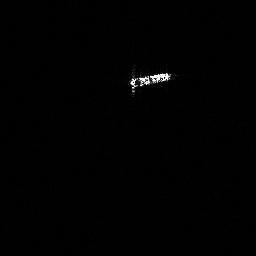ship: (125, 67, 175, 97)
